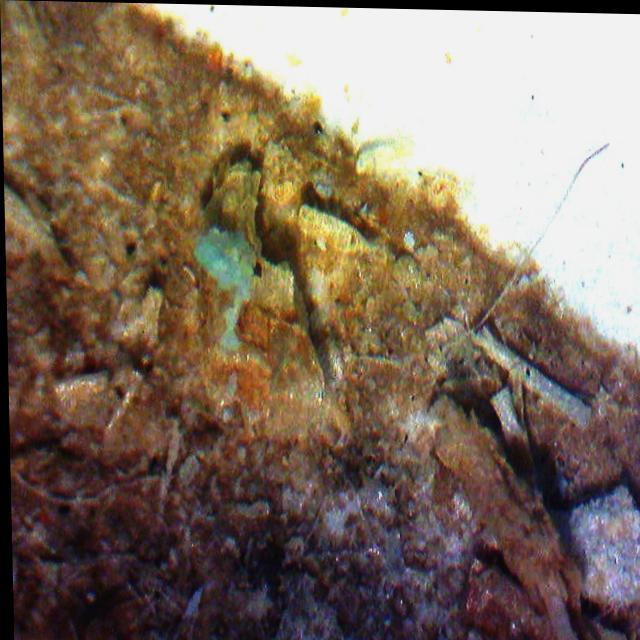microplastic: (182, 219, 266, 298)
